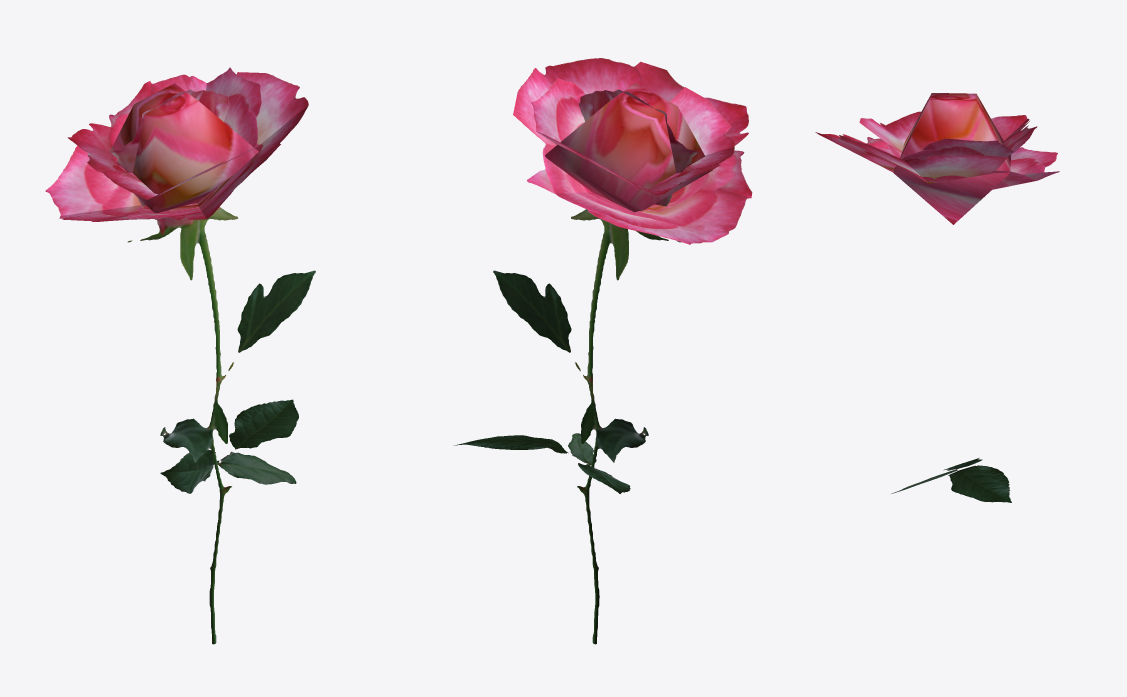
The model's file is Rose_Single.fbx.
The picture shows the model from 3 angles, left to right: view 1: azimuth 30°, elevation 25°; view 2: azimuth 150°, elevation 25°; view 3: azimuth 270°, elevation 25°; orthographic projection. The views are drawn at different scales.
Visible parts, largest first — view 1: Rose1.004; view 2: Rose1.004; view 3: Rose1.004.
Boxes of the visible parts, box(x1,y1,x2,y2) form: Rose1.004: box(45, 67, 315, 644); Rose1.004: box(453, 58, 752, 644); Rose1.004: box(815, 93, 1059, 502).
Bounding box in the file's own units: 12.32 × 22.91 × 11.25.
